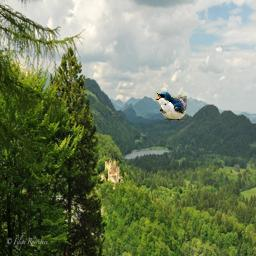Swallow: (154, 90, 187, 121)
